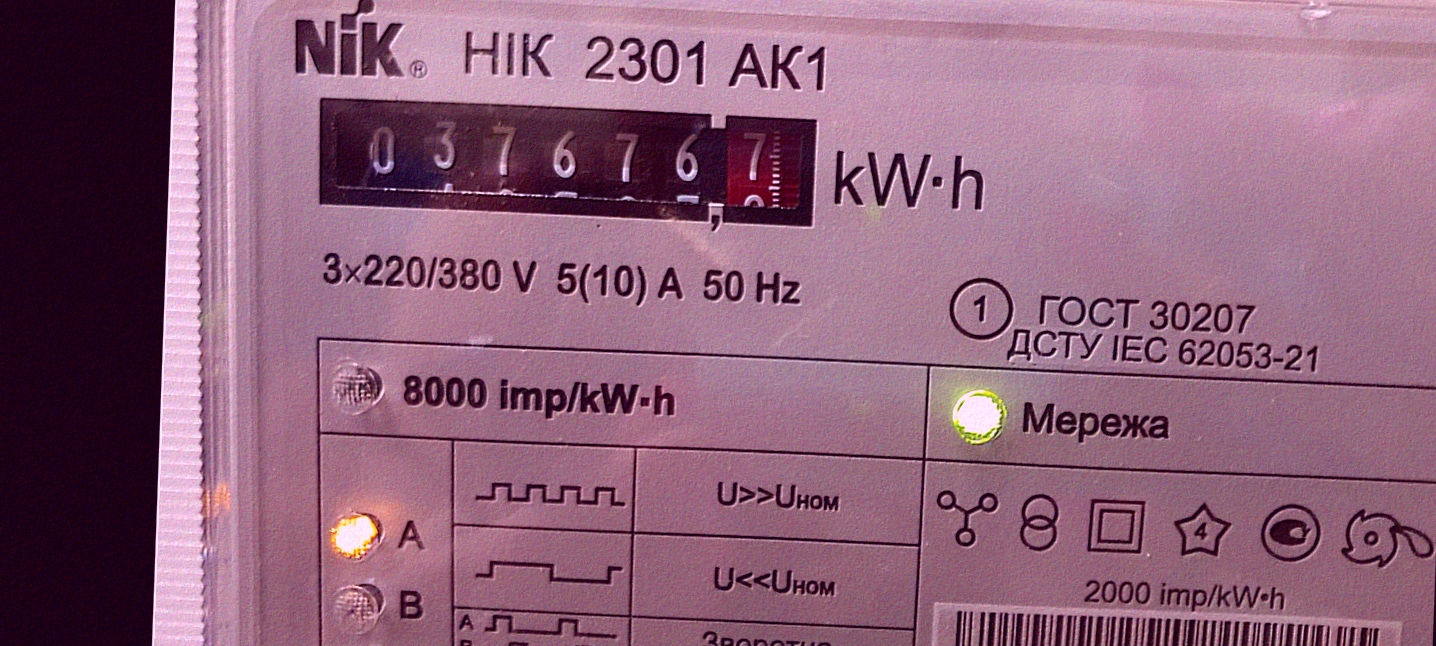0: (366, 122, 401, 178)
3: (429, 116, 459, 173)
6: (548, 125, 582, 180), (671, 129, 703, 185)
7: (609, 129, 642, 188), (487, 121, 519, 179), (739, 128, 769, 185)
screen: (300, 81, 834, 246)
